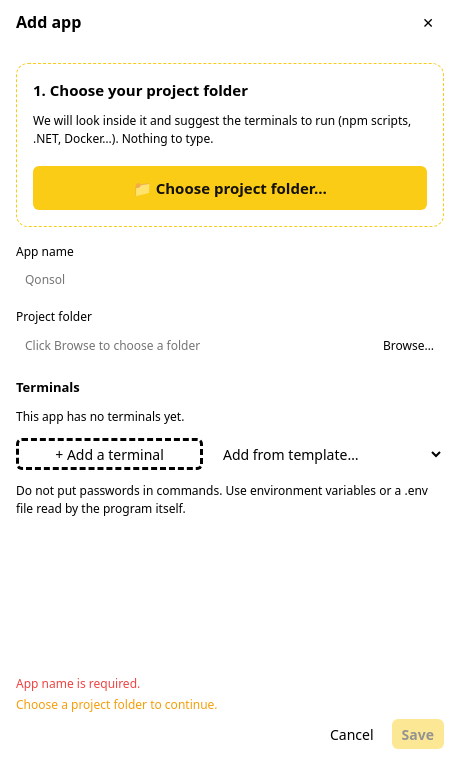
Test: EditPane: novice flow (pickers, detection, autocomplete) › explains itself when nothing is recognised
Click the button "📁 Choose project folder…" at (230, 188), box top-left (33, 166), bottom-right (427, 210)
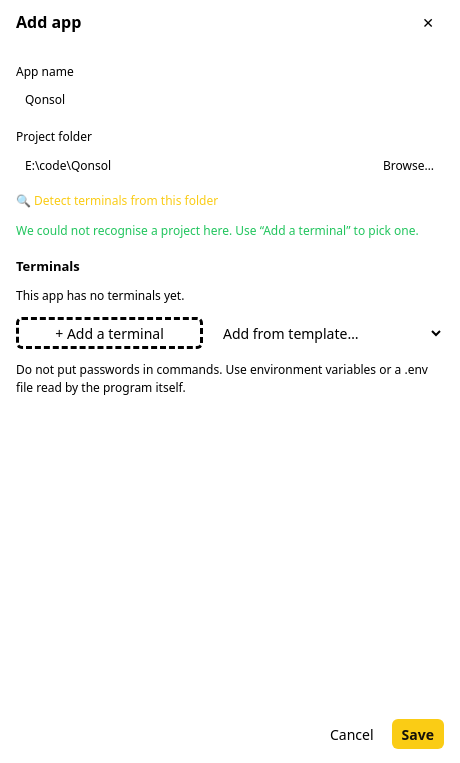
Expected: the text "could not recognise a project" is shown, top-left (16, 222), bottom-right (419, 239)
